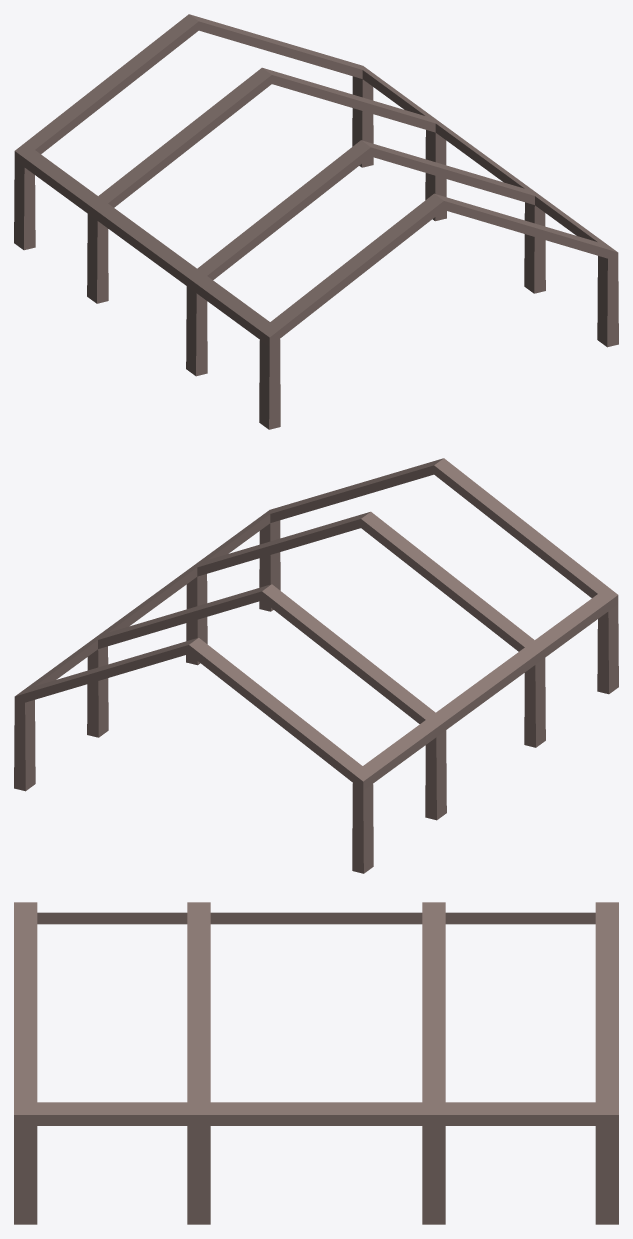
File: StructureFrame.fbx
3 renders of one model, top to bottom at view 1: azimuth 30°, elevation 25°; view 2: azimuth 150°, elevation 25°; view 3: azimuth 270°, elevation 25°, orthographic. The views are drawn at different scales.
Visible parts, largest first — view 1: StructureFrame; view 2: StructureFrame; view 3: StructureFrame.
Part boxes in pixels (box(x1,y1,x2,y2)): StructureFrame: box(14, 14, 618, 429); StructureFrame: box(14, 458, 618, 873); StructureFrame: box(14, 902, 618, 1224).
Size of the model in its own units: 1995 by 1015 by 2519.
